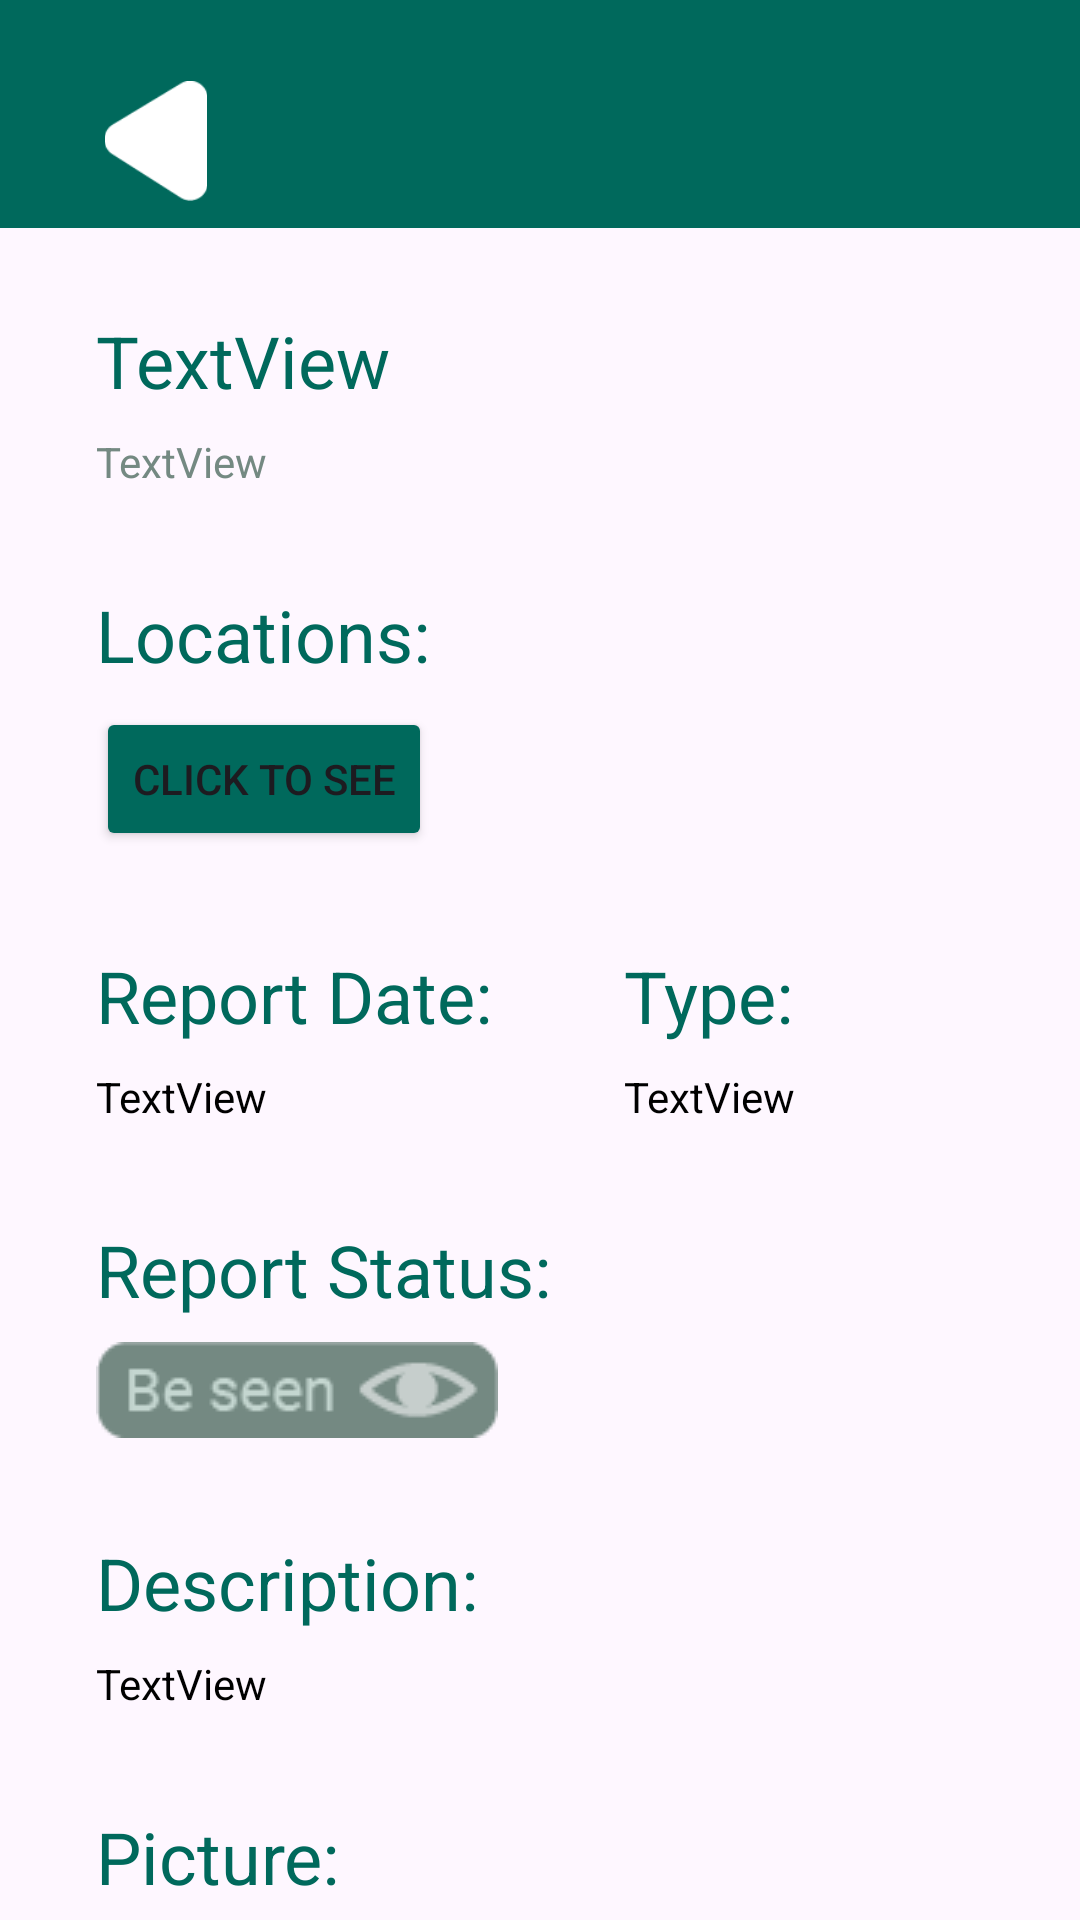

Screen size 1080 × 1920. Icon name, then its box in pixels as (x1, y1, x2, y2):
quit: (105, 81, 207, 201)
